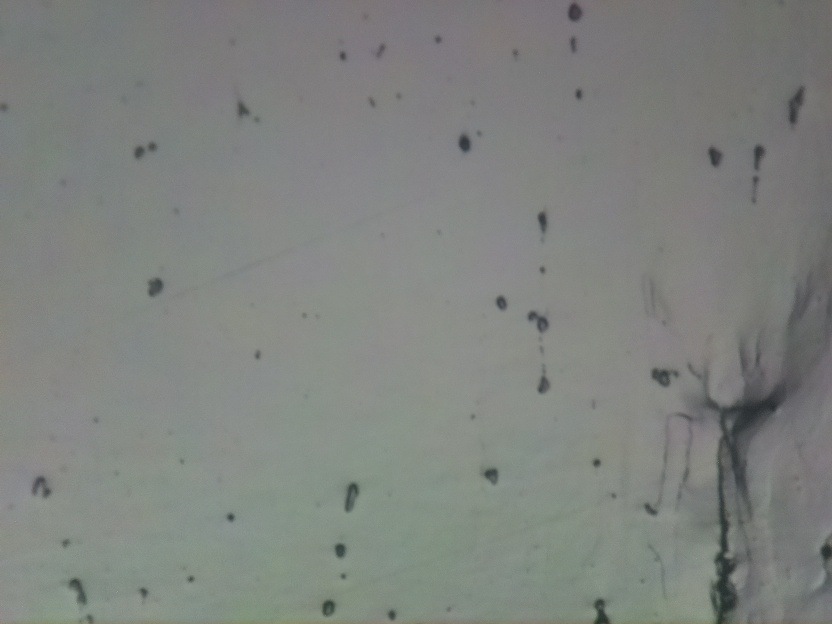crack: (701, 380, 745, 624)
